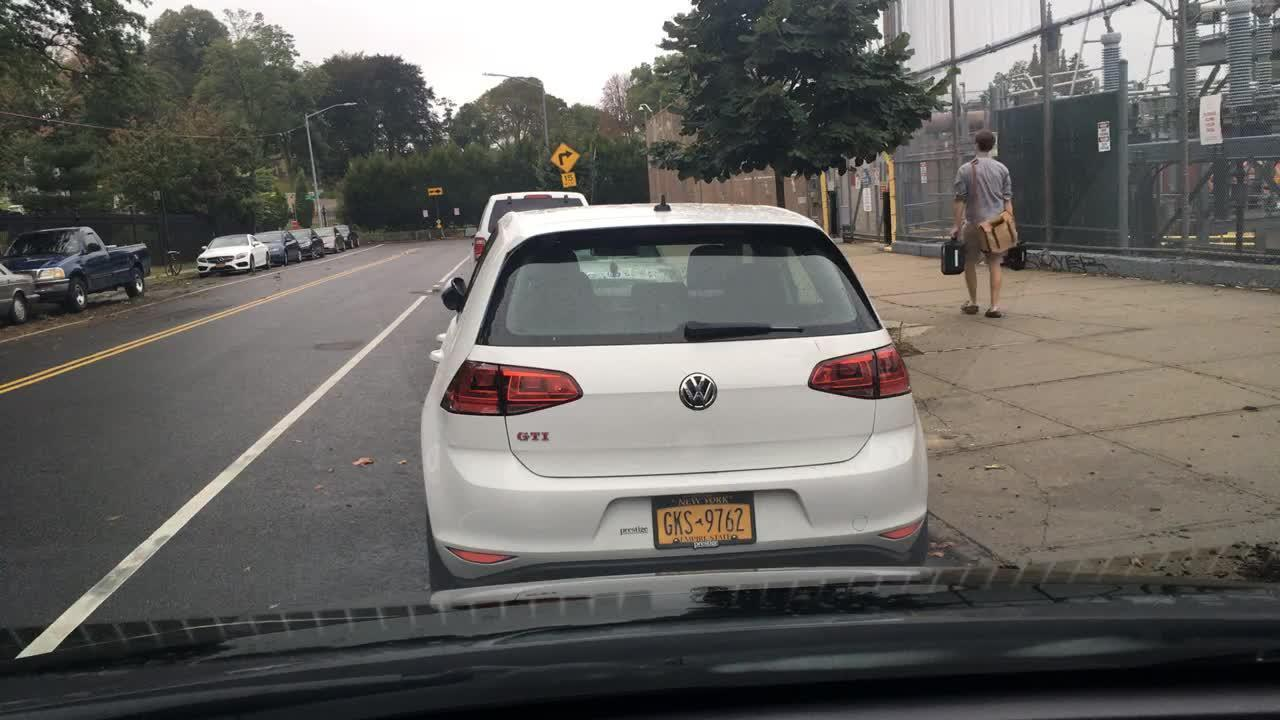Volkswagen: (670, 365, 720, 428)
